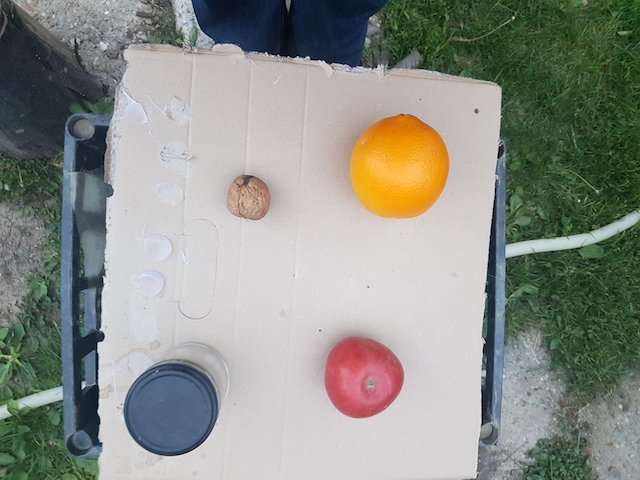apple: (323, 336, 403, 420)
nut: (226, 174, 273, 223)
orange: (348, 113, 453, 222)
recipient: (121, 368, 223, 460)
